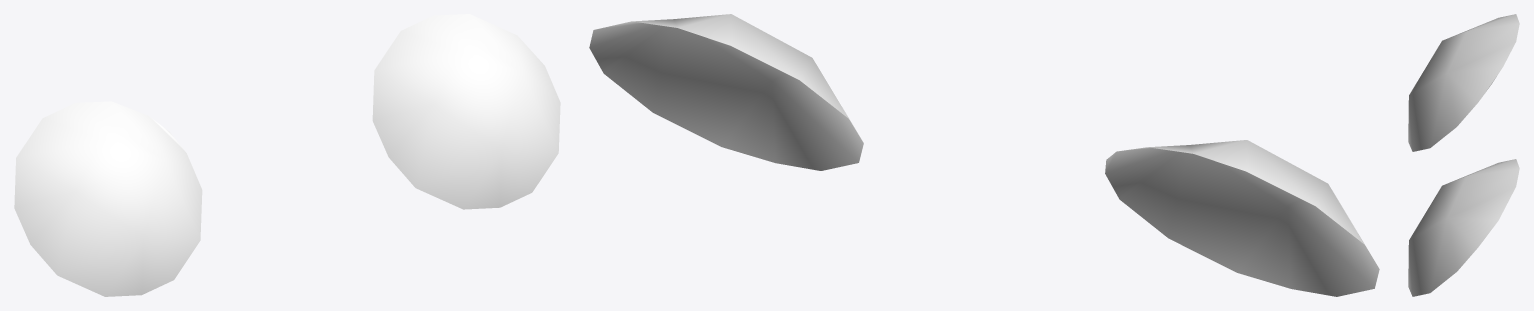
3 renders of one model, left to right at view 1: azimuth 30°, elevation 25°; view 2: azimuth 150°, elevation 25°; view 3: azimuth 270°, elevation 25°, orthographic. The views are drawn at different scales.
Size of the model in its own units: 0.0348 by 0.00884 by 0.00754.
Materials: 1 (1 with a texture image).
